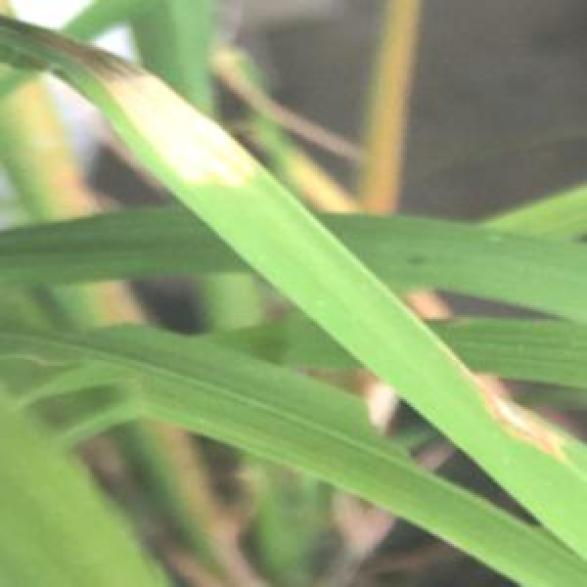Leaf_smut: (468, 366, 558, 473)
